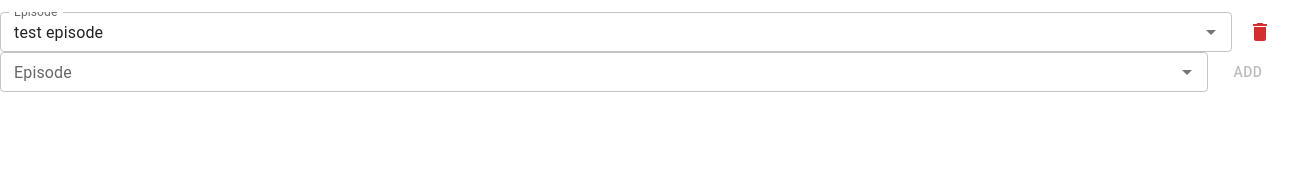
Test: Episode list form component › should delete episode from list
Click the button named "Remove": coordinates (1260, 32) [1240,12,1280,52]
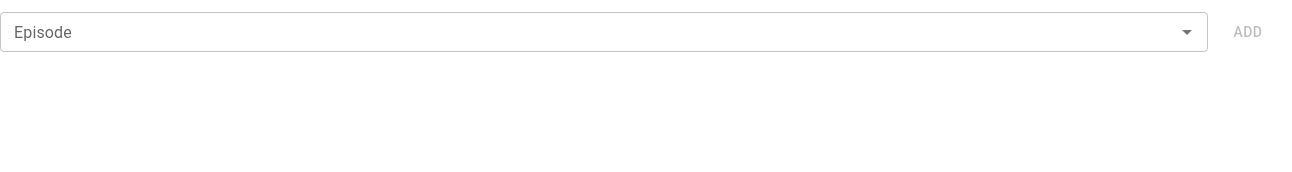
Check: the field showing "test episode" is not shown
Check: the button "Remove" is gone
